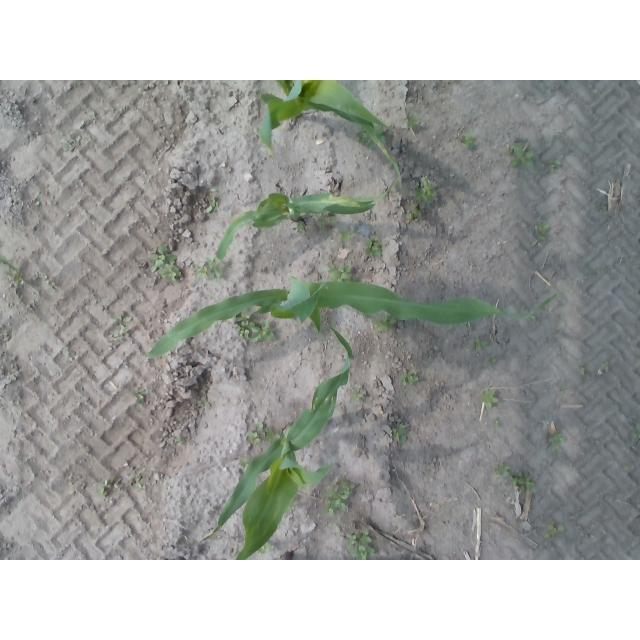Maize: (200, 326, 355, 560), (139, 281, 559, 356), (258, 80, 403, 188), (216, 192, 375, 260)
Weeds: (325, 483, 351, 514), (352, 532, 375, 561), (152, 248, 176, 272), (196, 259, 221, 282), (2, 257, 22, 283), (252, 324, 277, 344), (511, 148, 533, 168), (366, 233, 383, 256), (330, 264, 354, 280), (415, 182, 435, 199), (162, 265, 182, 280), (404, 369, 421, 385), (513, 475, 531, 490), (483, 390, 498, 408), (134, 390, 151, 403), (469, 338, 486, 351), (204, 199, 219, 213), (461, 134, 476, 148), (98, 480, 111, 496), (392, 430, 408, 443), (406, 205, 422, 218), (235, 322, 249, 336), (496, 463, 509, 477), (115, 314, 134, 323), (198, 396, 211, 409), (548, 433, 564, 443), (537, 222, 549, 235), (406, 117, 418, 130), (339, 230, 353, 241), (264, 428, 276, 440), (550, 158, 562, 170), (249, 432, 262, 443), (376, 320, 393, 328), (252, 419, 264, 429), (494, 418, 501, 427)
